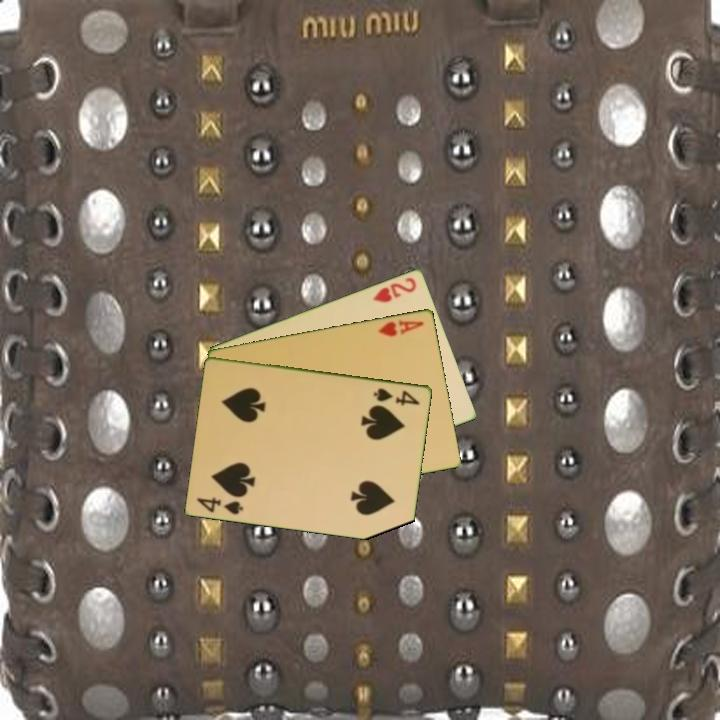2h: (370, 273, 419, 305)
4s: (370, 384, 423, 408), (193, 493, 246, 517)
Ah: (375, 316, 427, 339)
